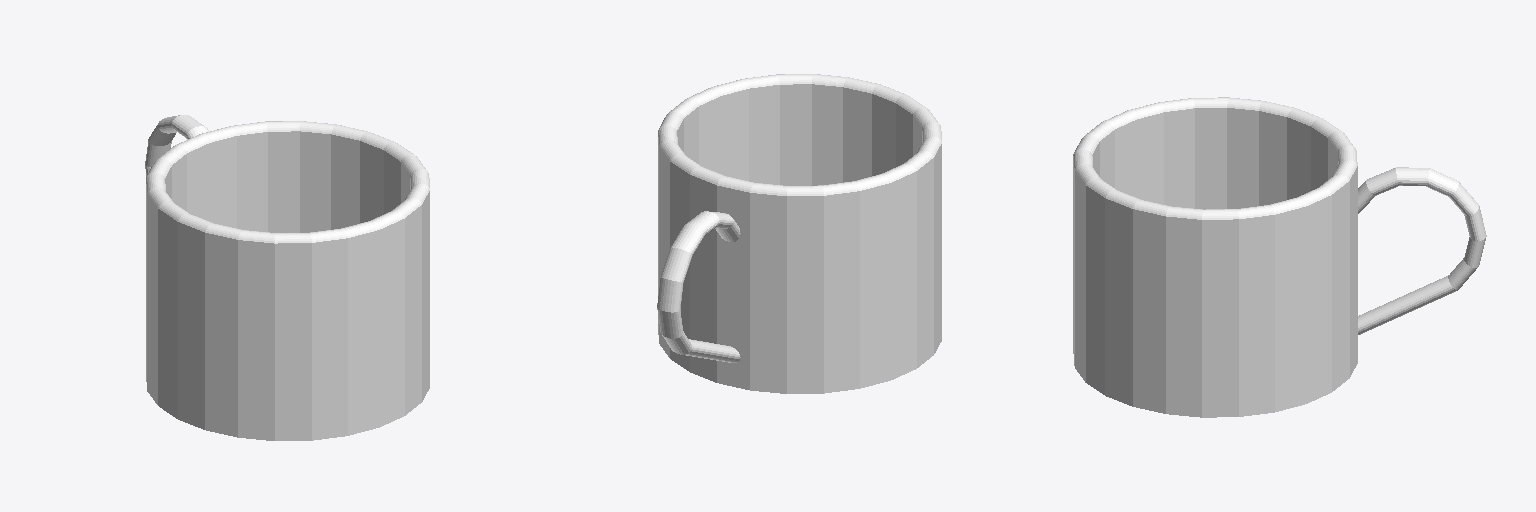
3 renders of one model, left to right at view 1: azimuth 30°, elevation 25°; view 2: azimuth 150°, elevation 25°; view 3: azimuth 270°, elevation 25°, orthographic.
Visible parts, largest first — view 1: model_normalized.004; view 2: model_normalized.004; view 3: model_normalized.004.
Part boxes in pixels (left/top/right/bottom): model_normalized.004: left=145, top=115, right=429, bottom=440; model_normalized.004: left=657, top=74, right=941, bottom=393; model_normalized.004: left=1073, top=97, right=1486, bottom=417.
Size of the model in its own units: 0.5177 by 0.4079 by 0.7521.